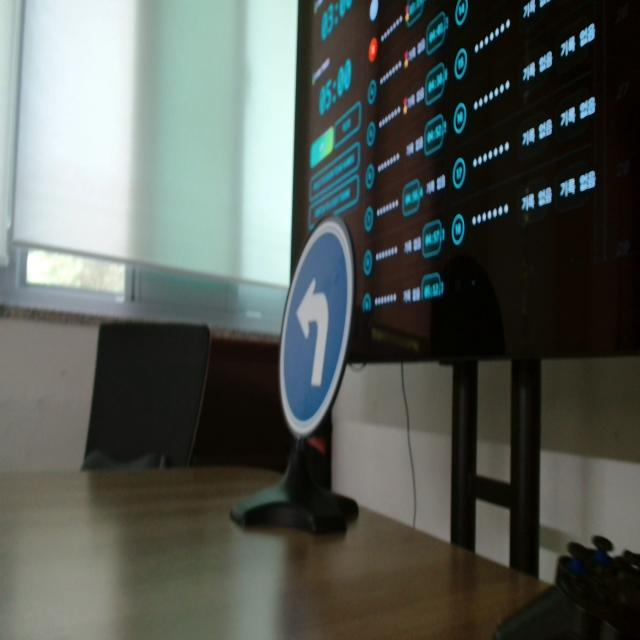left_direction: (267, 200, 367, 452)
